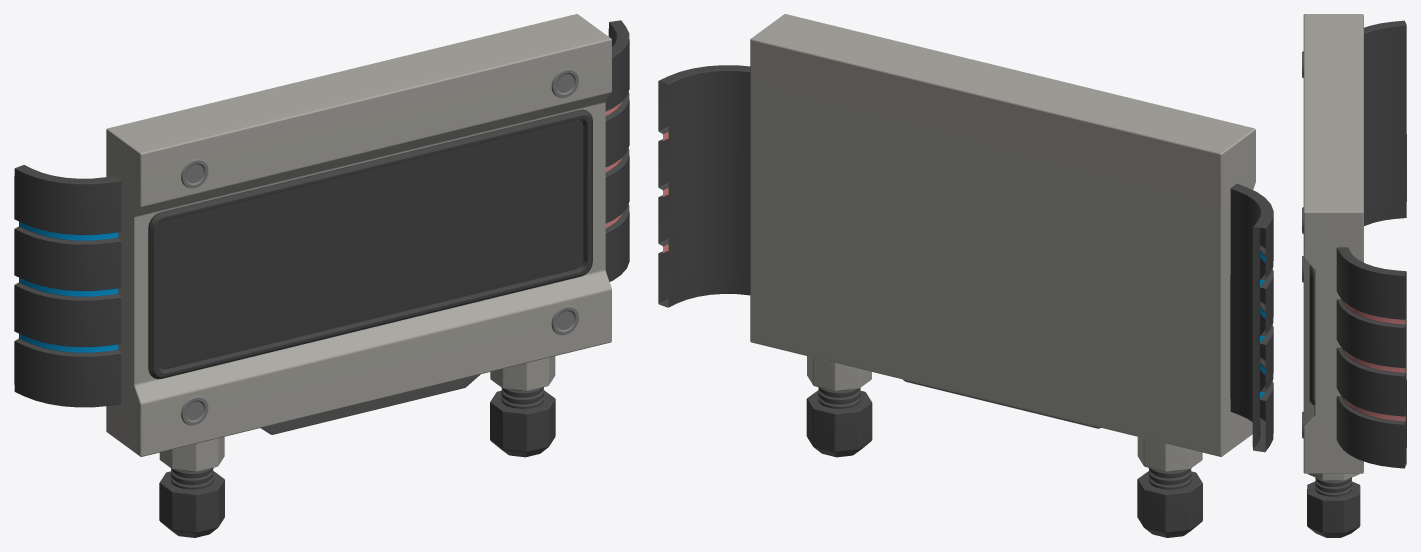
File: wenduqi_01.fbx
3 views of the same model, side by side, from view 1: azimuth 30°, elevation 25°; view 2: azimuth 150°, elevation 25°; view 3: azimuth 270°, elevation 25° (orthographic). The views are drawn at different scales.
Parts seen in each view (by area): view 1: wenduqi_low; view 2: wenduqi_low; view 3: wenduqi_low.
Part boxes in pixels (x1=…): wenduqi_low: x1=14, y1=14, x2=629, y2=537; wenduqi_low: x1=658, y1=14, x2=1273, y2=537; wenduqi_low: x1=1302, y1=14, x2=1406, y2=537.
Bounding box in the file's own units: 118 × 75.3 × 20.46.
